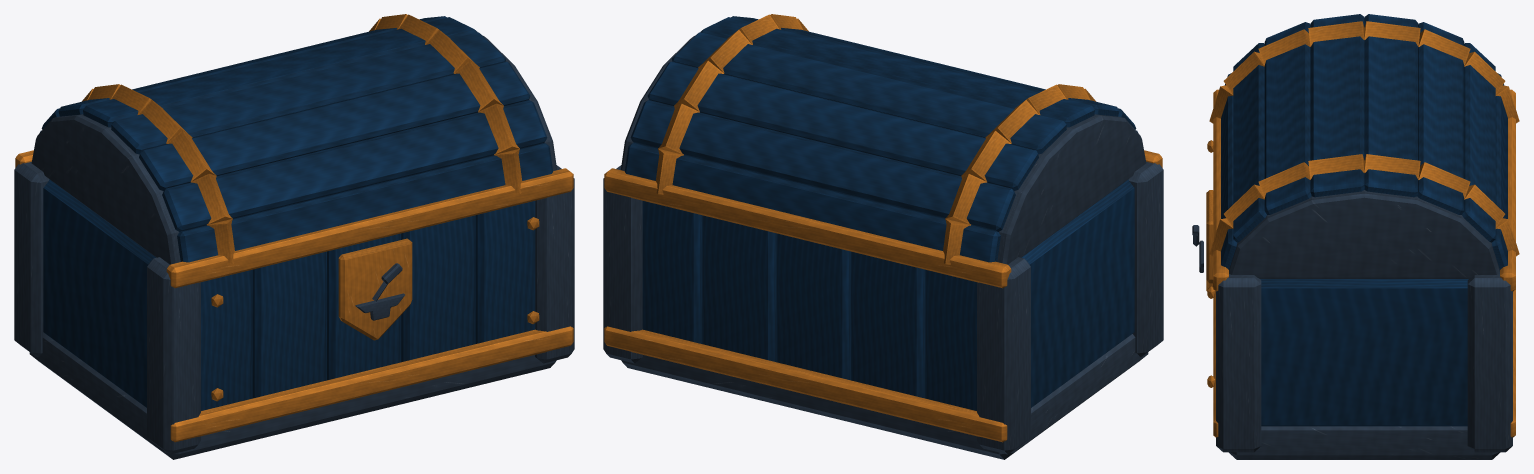
Rendered from weapon-chest.glb.
3 views of the same model, side by side, from view 1: azimuth 30°, elevation 25°; view 2: azimuth 150°, elevation 25°; view 3: azimuth 270°, elevation 25° (orthographic). The views are drawn at different scales.
Visible parts, largest first — view 1: Oak side, Curved oak lid.006, Curved oak lid.005, Curved oak lid.004, Curved oak lid.007, Lid end panel, Brass rim, Bottom, Oak body plank.002, Brass rim.002, Oak body plank.006, Forged corner (+20 smaller); view 2: Oak side, Curved oak lid.001, Curved oak lid.002, Curved oak lid.003, Curved oak lid, Lid end panel, Brass rim.001, Bottom, Oak body plank.005, Oak body plank.003, Oak body plank.007, Brass rim.003 (+18 smaller); view 3: Oak side.001, Lid end panel.001, Curved oak lid.003, Curved oak lid.004, Forged corner.003, Forged corner.002, Bottom, Curved oak lid.002, Curved oak lid.005, Curved oak lid.006, Curved oak lid.001, Curved oak lid (+22 smaller).
Part boxes in pixels (box(x1,y1,x2,y2)): Oak side: box(43, 179, 156, 407); Curved oak lid.006: box(162, 100, 547, 231); Curved oak lid.005: box(139, 61, 530, 190); Curved oak lid.004: box(111, 32, 505, 154); Curved oak lid.007: box(177, 143, 553, 262); Lid end panel: box(31, 114, 180, 264); Brass rim: box(170, 326, 573, 442); Bottom: box(29, 334, 556, 459); Oak body plank.002: box(252, 251, 326, 398); Brass rim.002: box(166, 168, 573, 288); Oak body plank.006: box(401, 215, 475, 362); Forged corner: box(147, 257, 200, 454); Oak side: box(1021, 179, 1134, 407); Curved oak lid.001: box(630, 100, 1015, 231); Curved oak lid.002: box(647, 61, 1038, 190); Curved oak lid.003: box(672, 32, 1066, 154); Curved oak lid: box(624, 143, 1000, 262); Lid end panel: box(997, 114, 1146, 264); Brass rim.001: box(604, 326, 1007, 442); Bottom: box(621, 334, 1148, 459); Oak body plank.005: box(776, 233, 850, 380); Oak body plank.003: box(851, 251, 925, 398); Oak body plank.007: box(702, 215, 776, 362); Brass rim.003: box(604, 168, 1011, 288); Oak side.001: box(1260, 279, 1468, 426); Lid end panel.001: box(1229, 190, 1499, 278); Curved oak lid.003: box(1364, 14, 1418, 197); Curved oak lid.004: box(1310, 14, 1364, 197); Forged corner.003: box(1467, 274, 1512, 452); Forged corner.002: box(1216, 274, 1261, 452); Bottom: box(1229, 426, 1500, 459); Curved oak lid.002: box(1417, 22, 1464, 214); Curved oak lid.005: box(1264, 22, 1311, 214); Curved oak lid.006: box(1233, 43, 1266, 242); Curved oak lid.001: box(1462, 43, 1495, 242); Curved oak lid: box(1491, 73, 1507, 269).
Size of the model in its own units: 1.14 by 0.8006 by 0.8327.
1 material, 1 textured.
